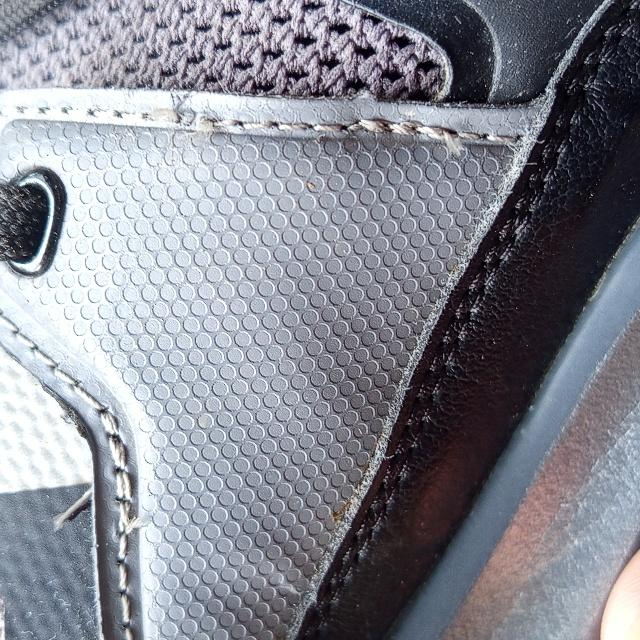broken: (155, 93, 222, 148)
